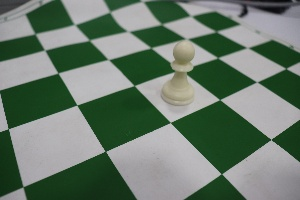white_pawn: (156, 30, 199, 113)
